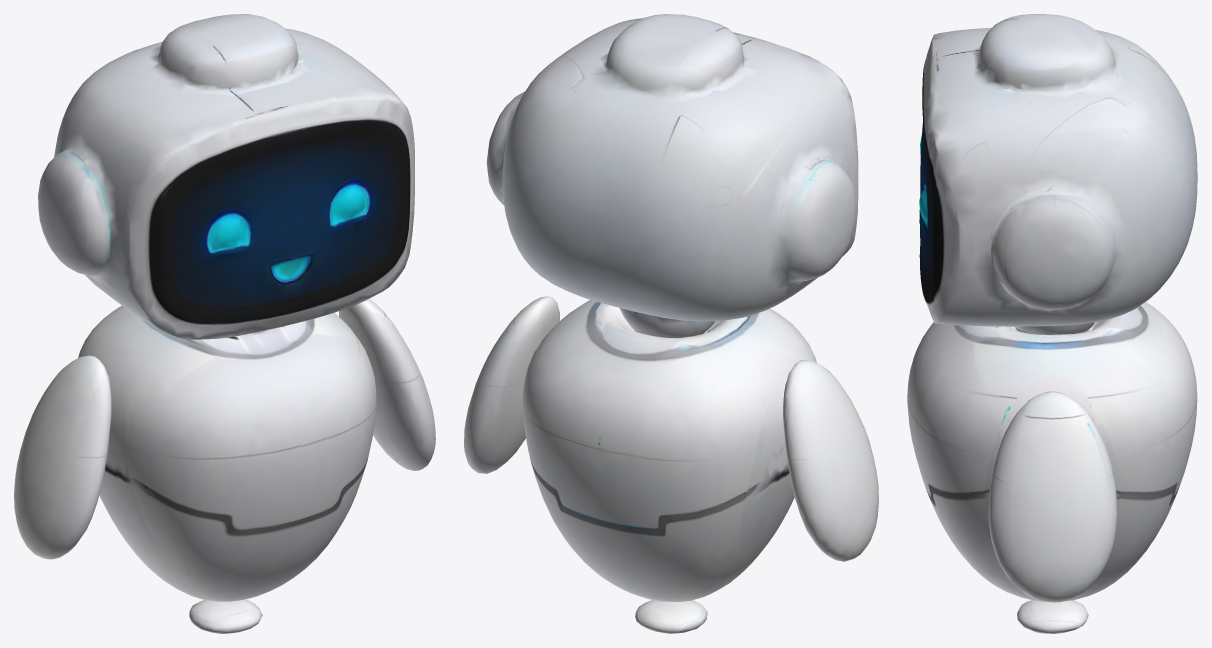
File: Friendly_Bot_0429230131_texture.glb
The picture shows the model from 3 angles, left to right: view 1: azimuth 30°, elevation 25°; view 2: azimuth 150°, elevation 25°; view 3: azimuth 270°, elevation 25°; orthographic projection.
Size of the model in its own units: 1.38 by 2 by 0.8832.
Materials: 1 (1 with a texture image).
